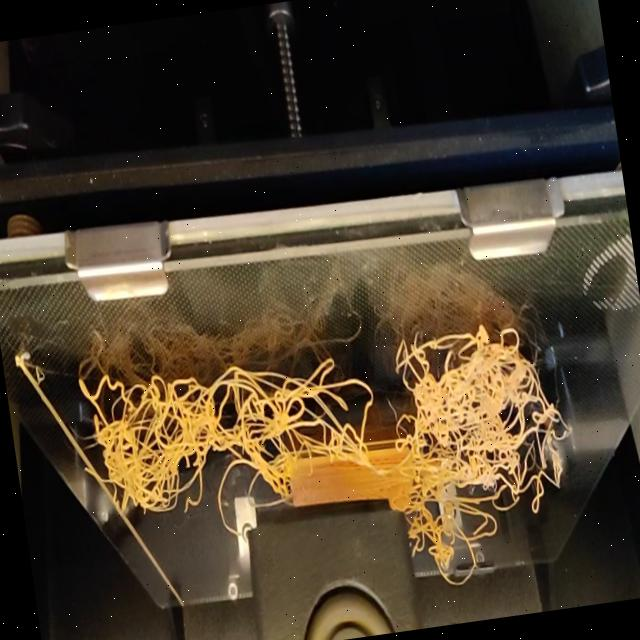spaghetti: (71, 300, 580, 544), (404, 479, 560, 594)
